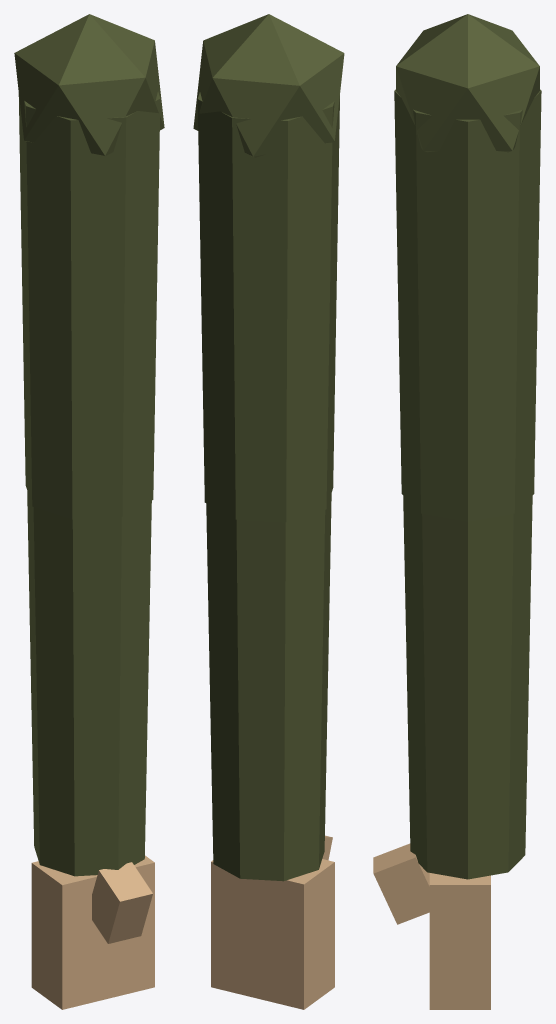
File: PersonVaultArmR.obj
The picture shows the model from 3 angles, left to right: view 1: azimuth 30°, elevation 25°; view 2: azimuth 150°, elevation 25°; view 3: azimuth 270°, elevation 25°; orthographic projection.
Parts seen in each view (by area): view 1: PersonVaultArmR; view 2: PersonVaultArmR; view 3: PersonVaultArmR.
Part boxes in pixels (<box>): PersonVaultArmR: <box>14,14,164,1009</box>; PersonVaultArmR: <box>193,14,344,1009</box>; PersonVaultArmR: <box>373,14,541,1009</box>.
Bounding box in the file's own units: 0.0987 × 0.7002 × 0.1096.
